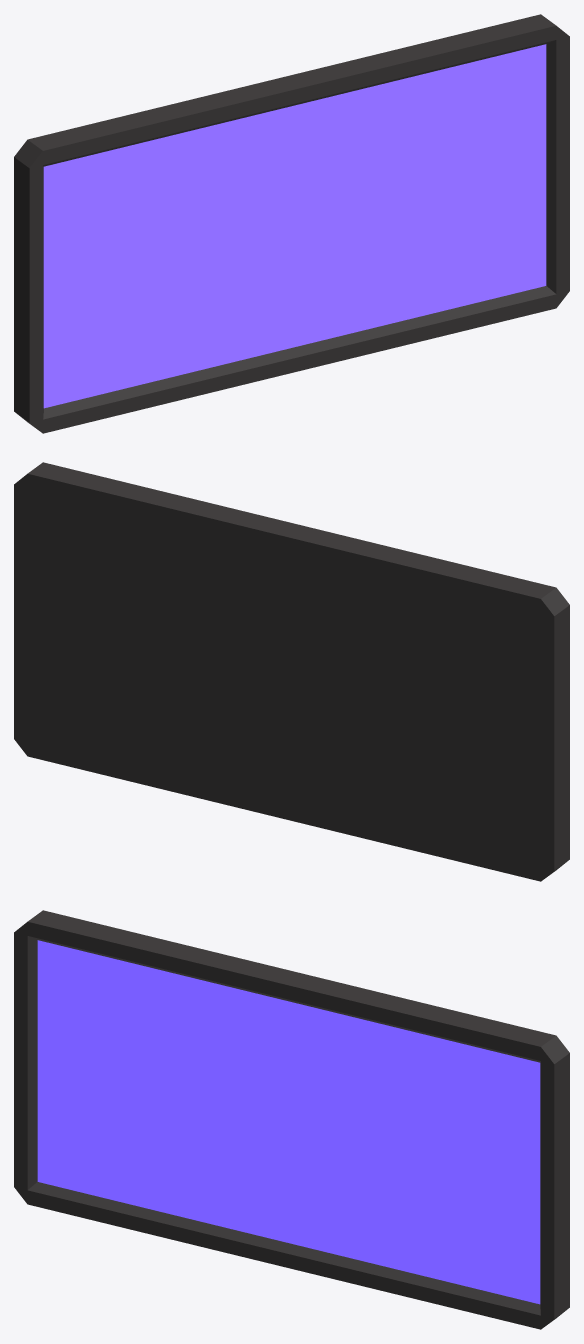
The model's file is scifi_scifi-neon-screen.fbx.
The picture shows the model from 3 angles, top to bottom: view 1: azimuth 30°, elevation 25°; view 2: azimuth 150°, elevation 25°; view 3: azimuth 330°, elevation 25°; orthographic projection.
Visible parts, largest first — view 1: scifi_scifi_neon_screen; view 2: scifi_scifi_neon_screen; view 3: scifi_scifi_neon_screen.
Boxes of the visible parts, x1,y1,x2,y2 form: scifi_scifi_neon_screen: (14,14,569,433); scifi_scifi_neon_screen: (14,462,569,881); scifi_scifi_neon_screen: (14,910,569,1329).
Size of the model in its own units: 200 by 100 by 10.
